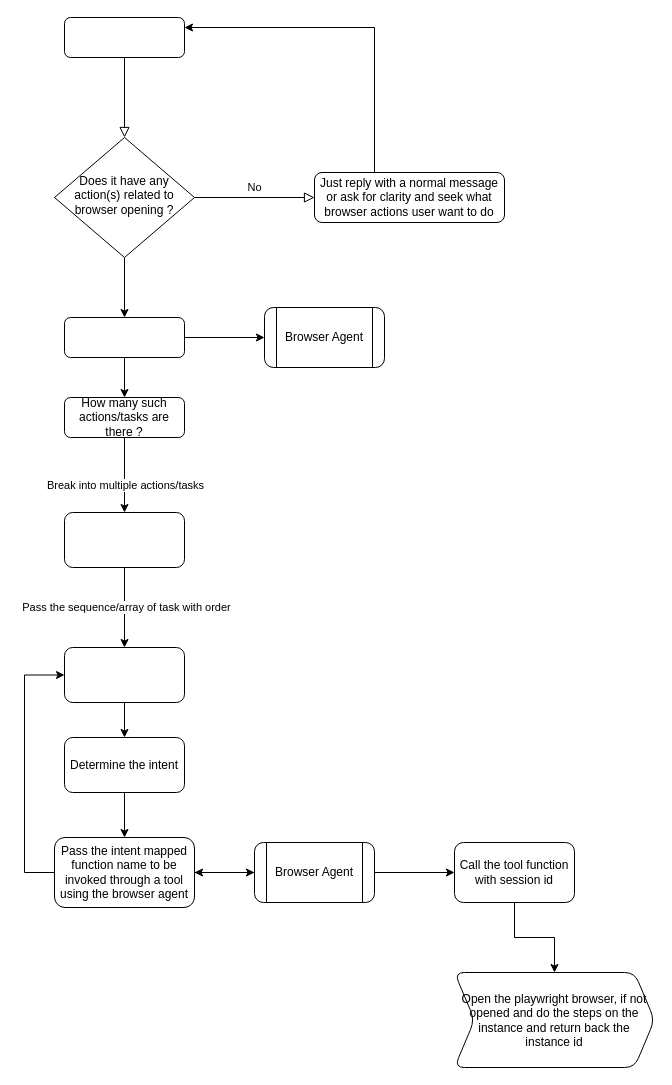
Image size: 672x1085. Some labels were removed from this diagram. The centre of each missing label's shape, as x and y in pixels:
"Create a Browser agent session" belongs at [124,337].
"Determine the order in which tasks will be executed" belongs at [124,540].
"Do the following for each task" belongs at [124,674].
"Read the instructions from User" belongs at [124,37].
